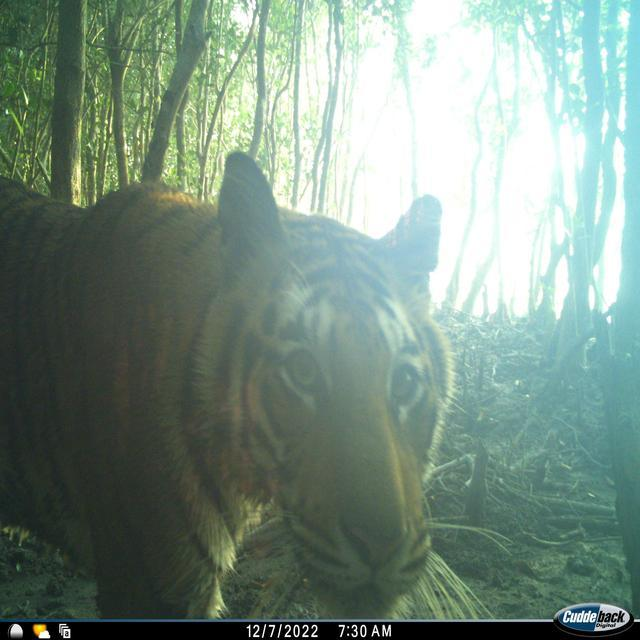tiger: (0, 149, 498, 620)
